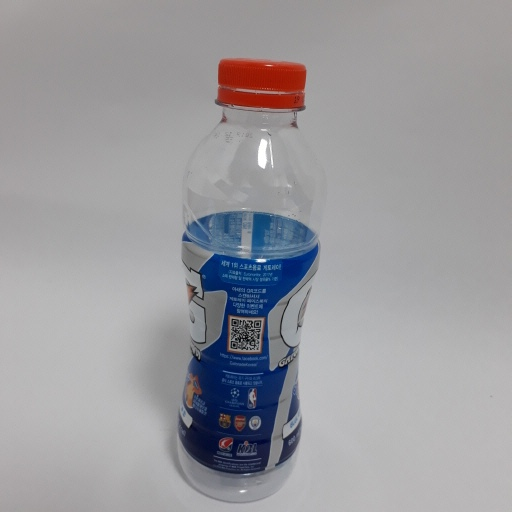Plastic_0: (179, 54, 324, 500)
